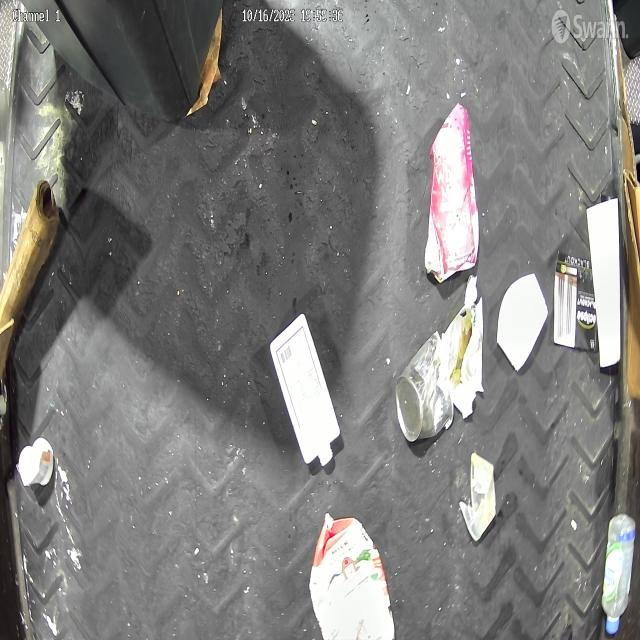can: (395, 328, 458, 451)
plastic_bottle: (599, 507, 638, 640)
